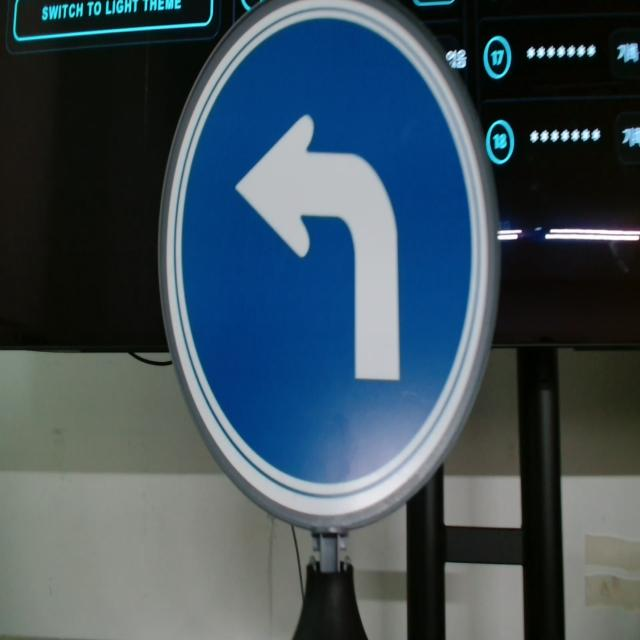left_direction: (151, 0, 504, 534)
